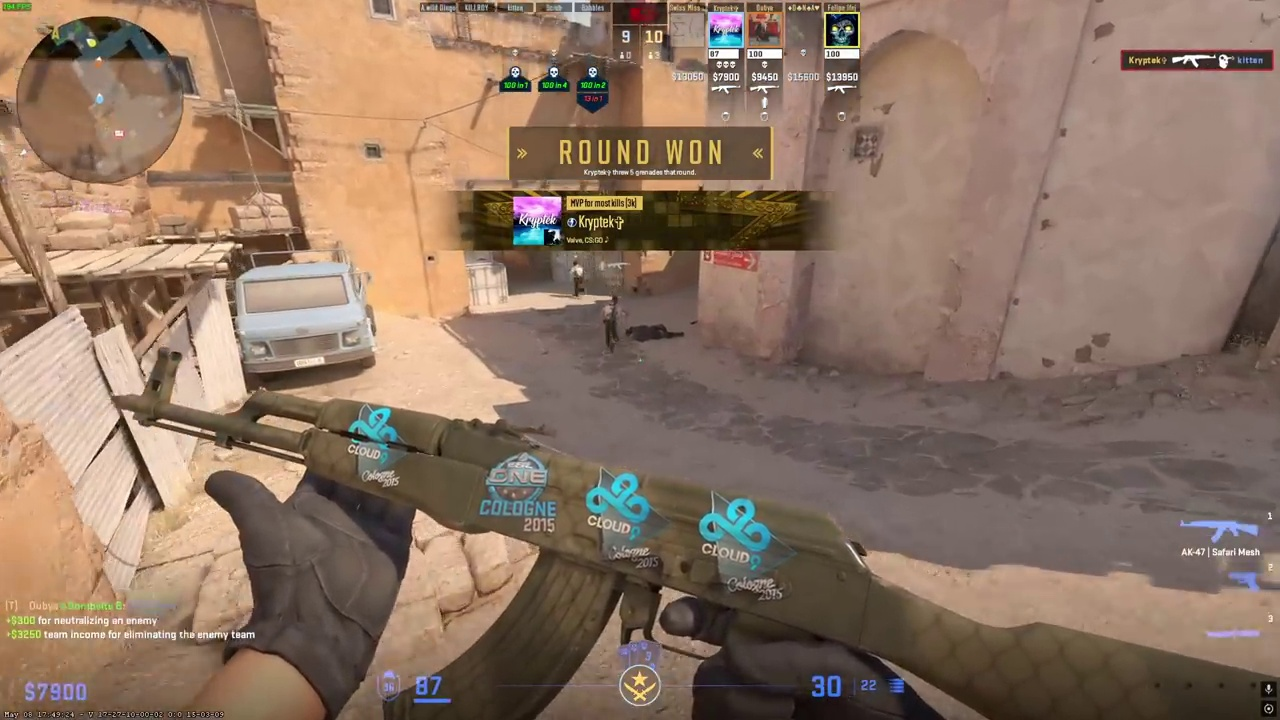Terrorist: (601, 295, 623, 353), (570, 261, 586, 296)
